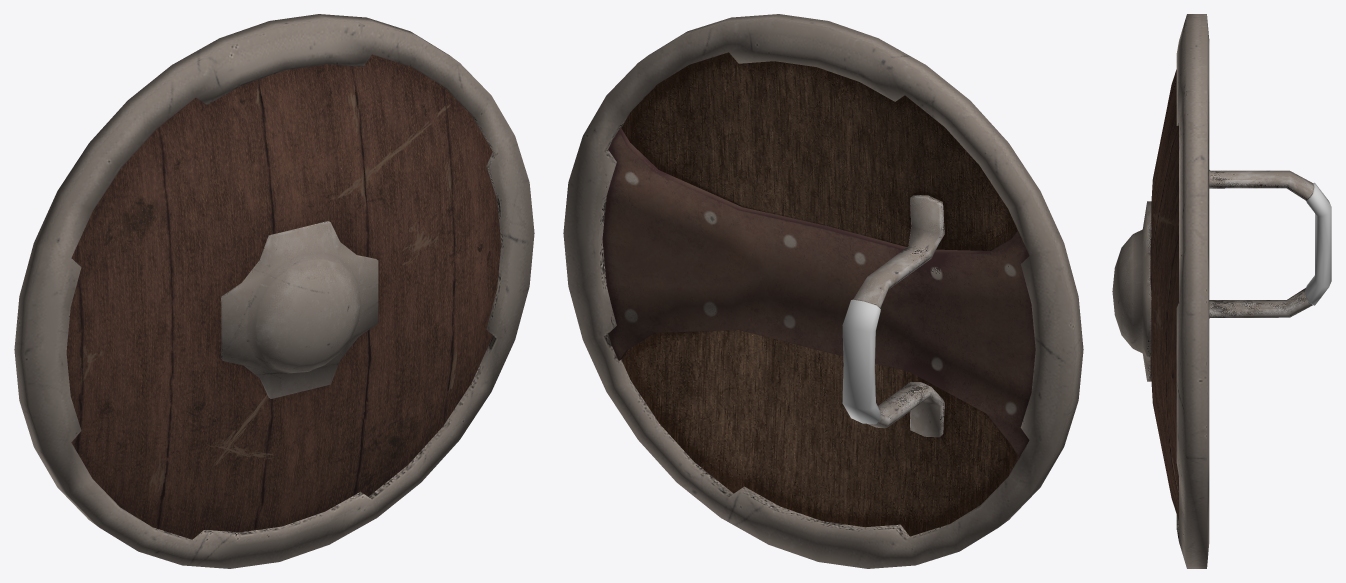
The model's file is Warrior_Lv1_Shield.fbx.
3 views of the same model, side by side, from view 1: azimuth 30°, elevation 25°; view 2: azimuth 150°, elevation 25°; view 3: azimuth 270°, elevation 25° (orthographic). The views are drawn at different scales.
Visible parts, largest first — view 1: Shield_003; view 2: Shield_003; view 3: Shield_003.
Boxes of the visible parts, box(x1,y1,x2,y2) form: Shield_003: box(14, 14, 534, 568); Shield_003: box(563, 14, 1083, 568); Shield_003: box(1112, 14, 1331, 568).
Bounding box in the file's own units: 42.56 × 42.56 × 16.79.
